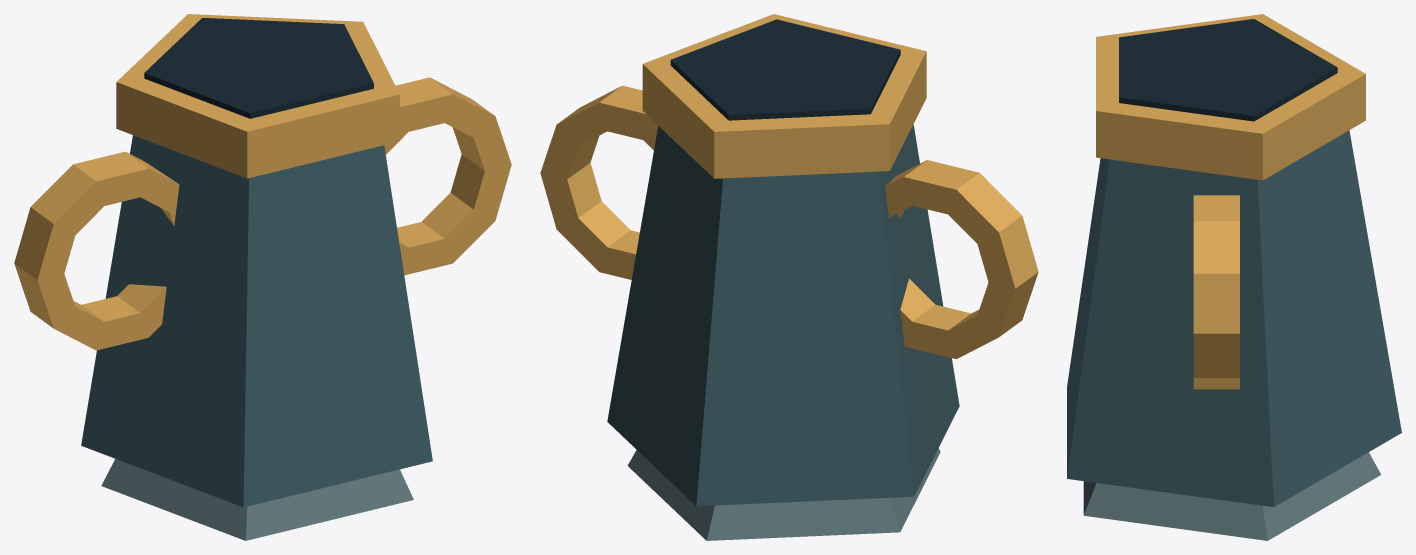
Rendered from vessel.glb.
3 views of the same model, side by side, from view 1: azimuth 30°, elevation 25°; view 2: azimuth 150°, elevation 25°; view 3: azimuth 270°, elevation 25° (orthographic).
Visible parts, largest first — view 1: vessel_solid; view 2: vessel_solid; view 3: vessel_solid.
Part boxes in pixels (x1,y1,x2,y2): vessel_solid: (14,14,511,540); vessel_solid: (540,14,1038,540); vessel_solid: (1067,14,1401,540).
Size of the model in its own units: 1.06 by 0.874 by 0.6512.
